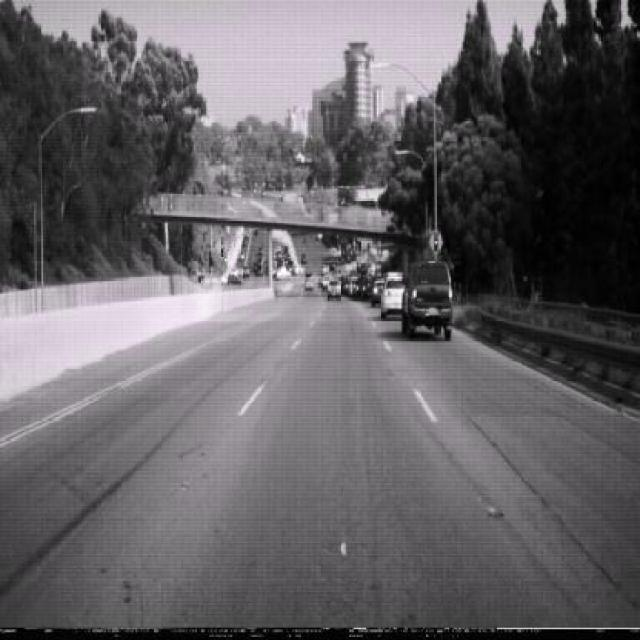signalAhead: (213, 230, 230, 262), (428, 225, 444, 257), (357, 214, 363, 226)
